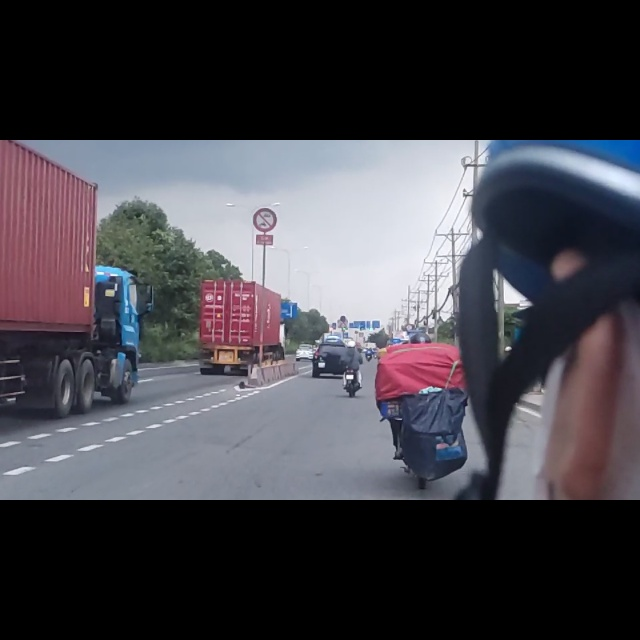bien_cam: (253, 121, 277, 164)
